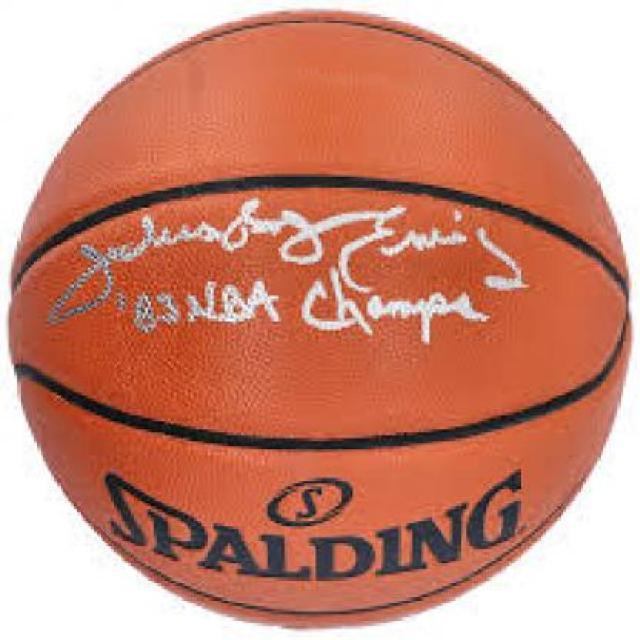basketball: (12, 12, 630, 626)
